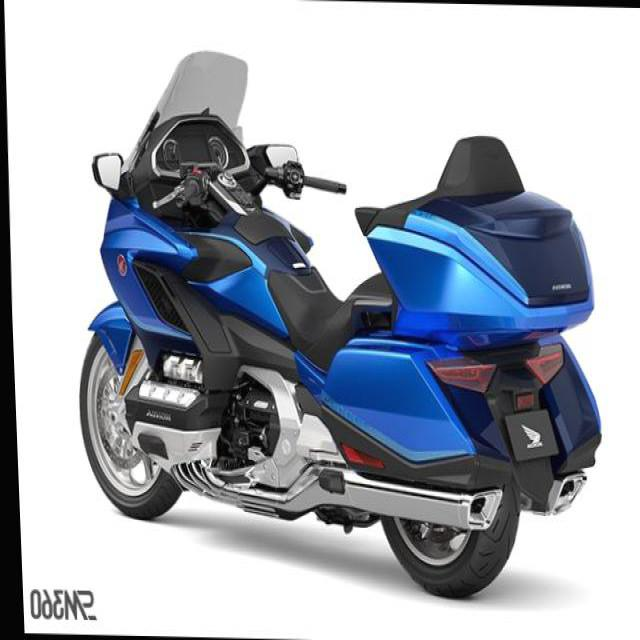Gold Wing: (61, 42, 606, 602)
